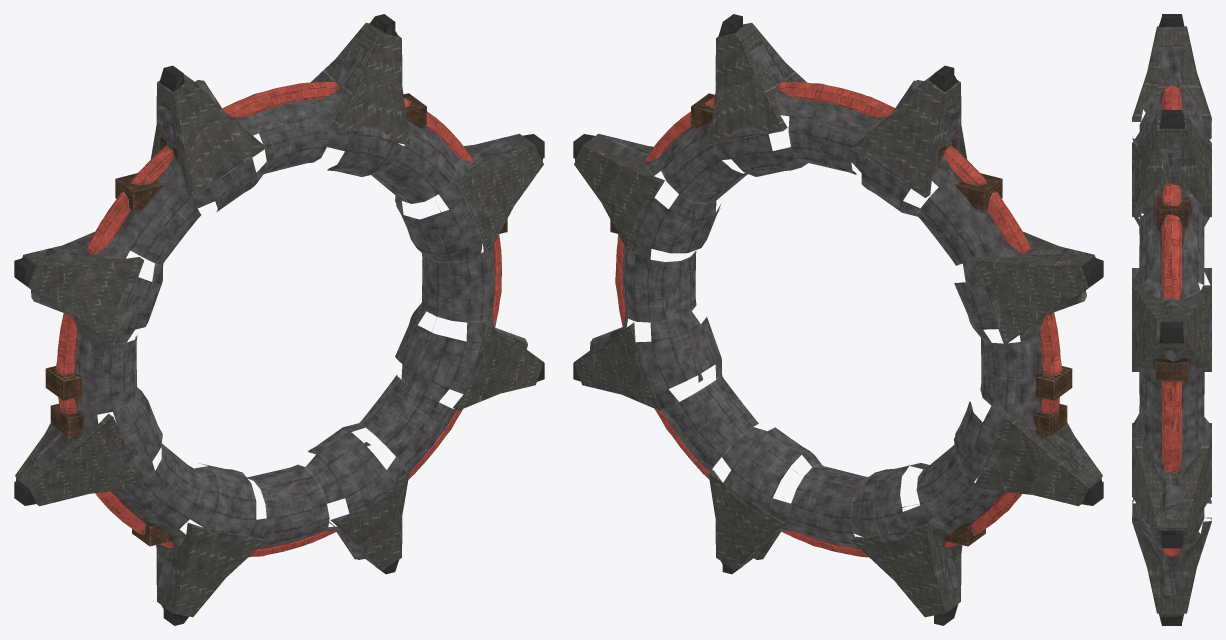
The model's file is sd_prop_gate_korsan.glb.
The picture shows the model from 3 angles, left to right: view 1: azimuth 30°, elevation 25°; view 2: azimuth 150°, elevation 25°; view 3: azimuth 270°, elevation 25°; orthographic projection. The views are drawn at different scales.
Visible parts, largest first — view 1: LOD0_body, LOD1_body; view 2: LOD0_body, LOD1_body; view 3: LOD0_body, LOD1_body.
Boxes of the visible parts, <box> form: LOD0_body: <box>14,14,544,625</box>; LOD1_body: <box>14,16,544,625</box>; LOD0_body: <box>573,14,1103,625</box>; LOD1_body: <box>573,19,1103,624</box>; LOD0_body: <box>1132,14,1211,625</box>; LOD1_body: <box>1132,14,1211,625</box>.
Size of the model in its own units: 0.9882 by 1 by 0.1416.
Materials: 1 (1 with a texture image).
